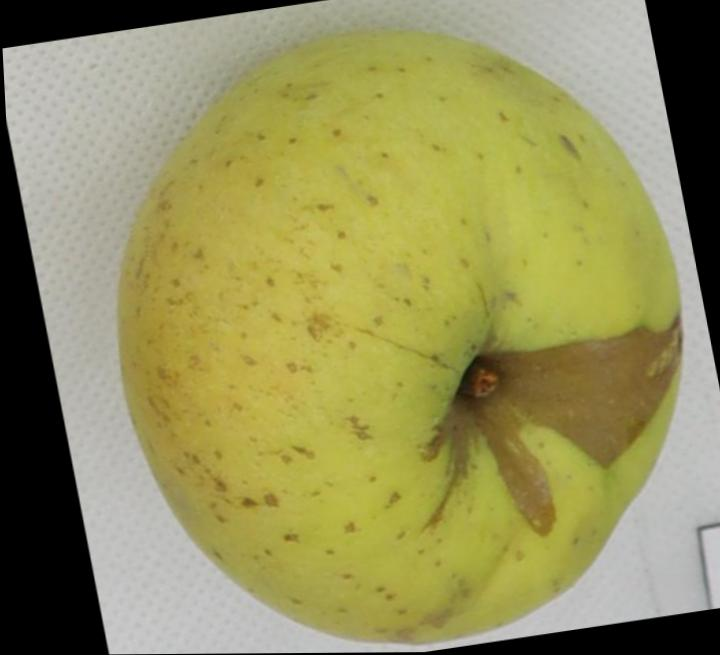apple: (121, 30, 683, 642)
bruise_discoloration: (423, 313, 682, 533)
